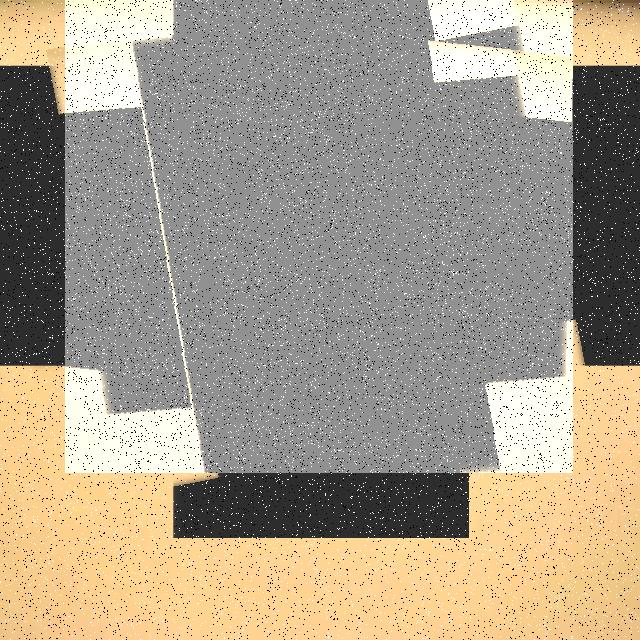dua puluh ribu rupiah: (65, 0, 573, 473)
